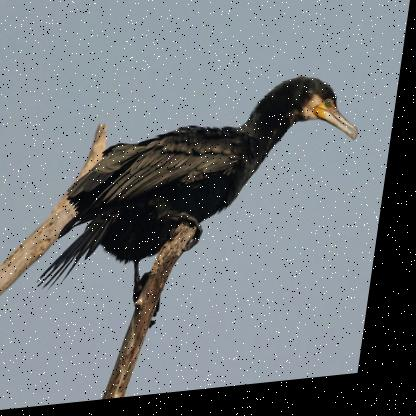Burung: (46, 77, 375, 322)
